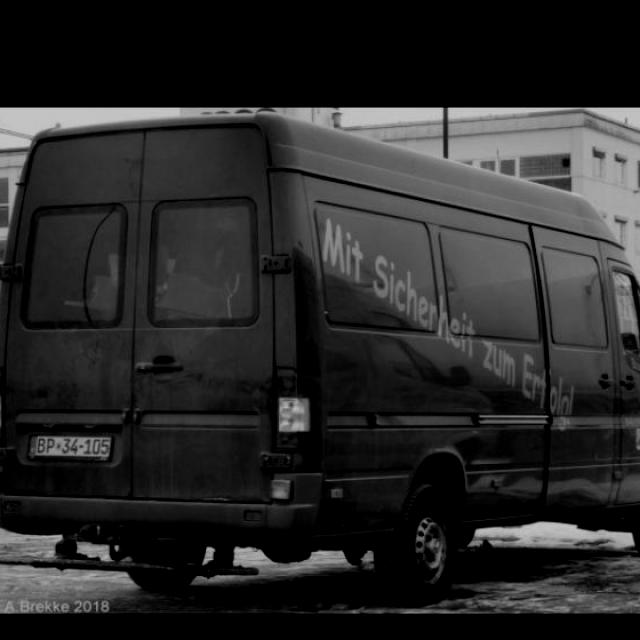licenseplate: (27, 432, 112, 457)
